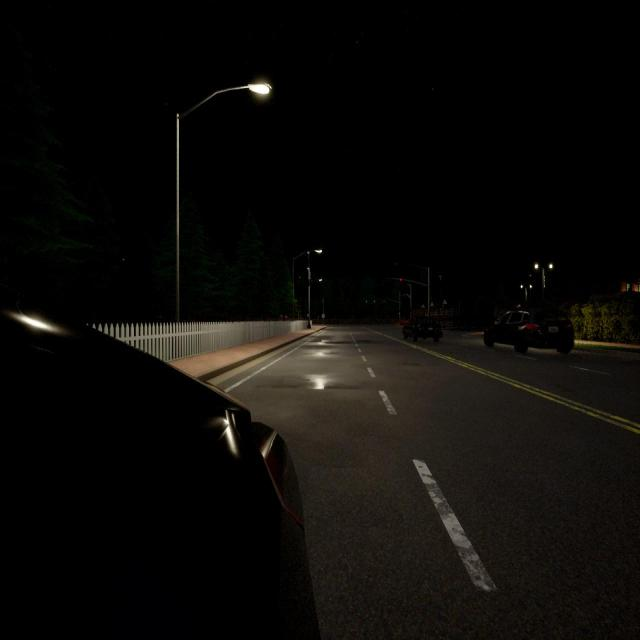Traffic_Signs: (322, 314, 326, 319)
Vehicle: (0, 310, 319, 640), (483, 307, 575, 354), (402, 316, 441, 344)
traffic_light: (383, 298, 385, 304), (400, 278, 402, 284), (366, 300, 367, 304), (399, 312, 400, 316), (374, 300, 375, 303)
